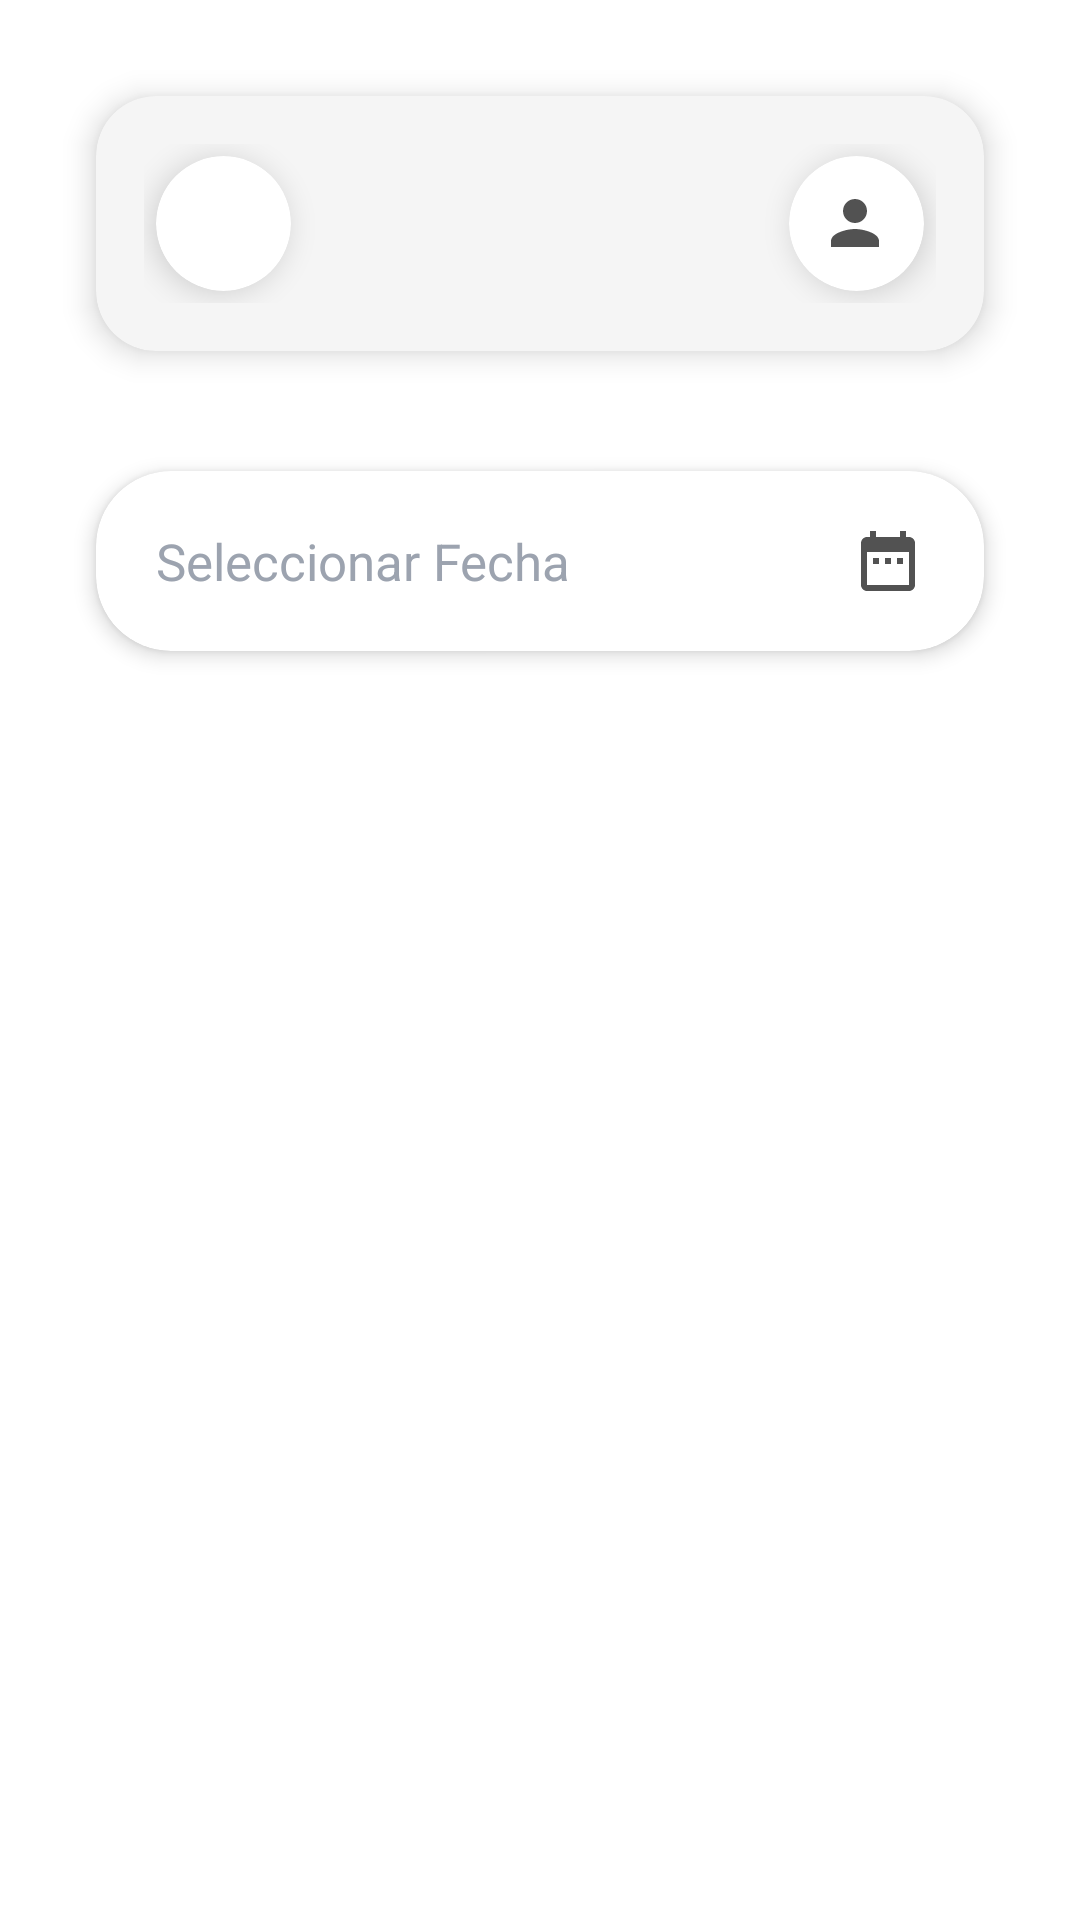

Where icons sit on this 1080×1920 app screen, as box(x1, y1, x2, y2):
Calendario: box(861, 531, 915, 591)
person: box(831, 199, 879, 247)
